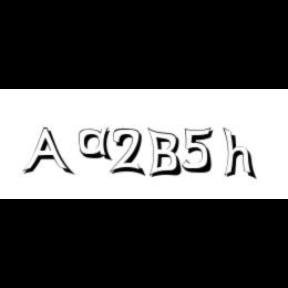2: (111, 125, 144, 177)
5: (182, 122, 214, 176)
A: (22, 124, 72, 174)
B: (143, 123, 181, 179)
a: (76, 126, 110, 162)
h: (218, 124, 260, 182)
